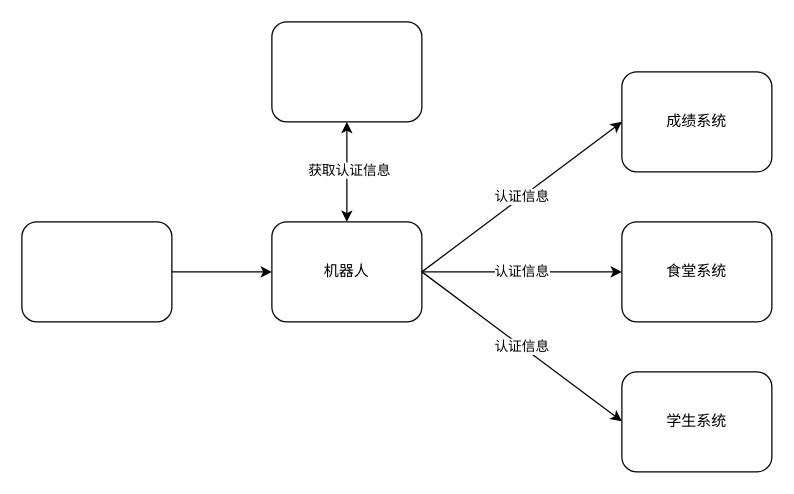
This 794x494 diagram has some shape labels left out. The shapes that lost their labels are listed below. From the top down, each one's box as (x1, y1, x2, y2) in pixels, then its label:
(271, 21, 422, 122): 单点登录
(21, 221, 172, 322): 问题： 我的食堂饭卡余额？ 我的成绩单？ 暑期留宿报名审批？
